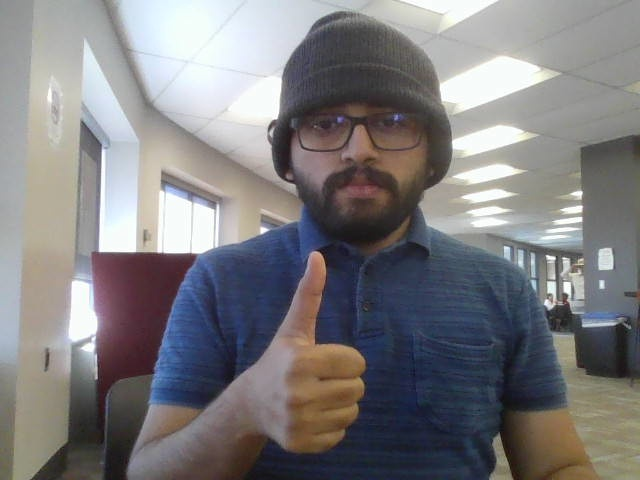start: (252, 239, 373, 465)
